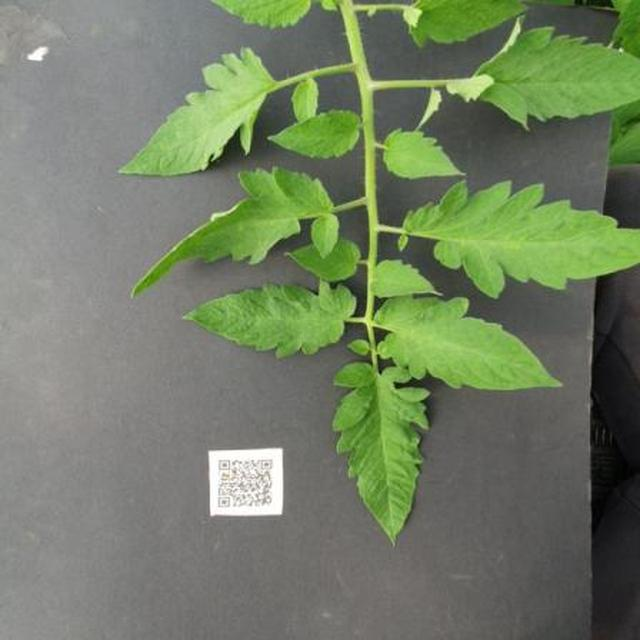Healthy Leaf: (106, 56, 640, 640)
